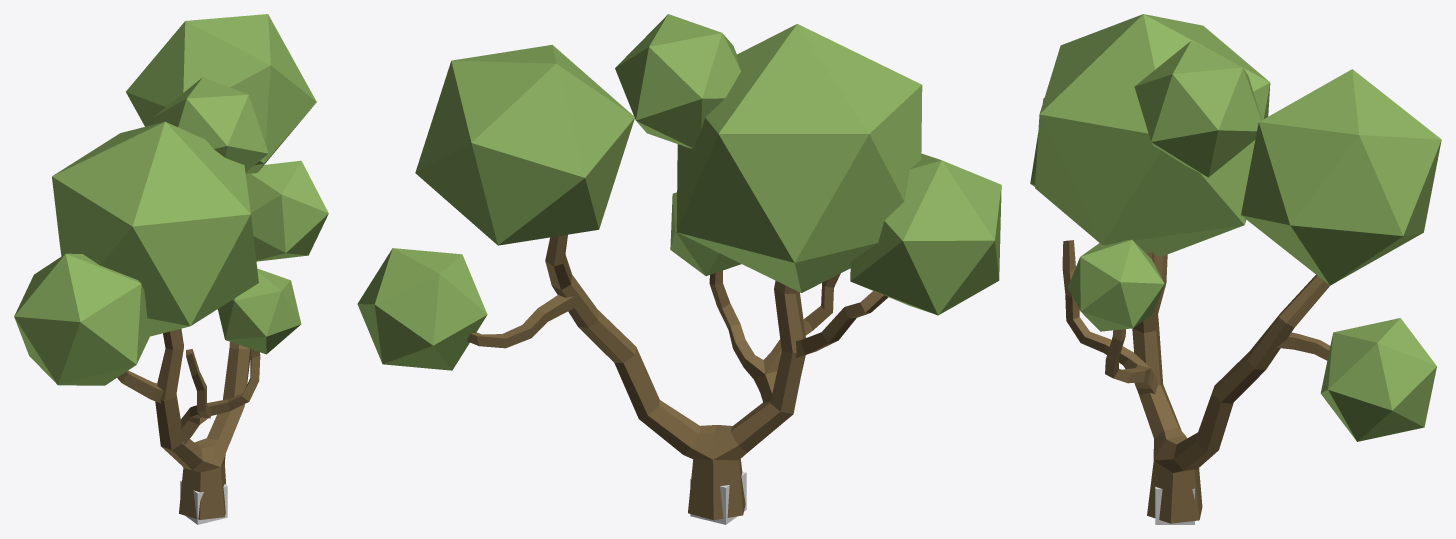
The model's file is tree.glb.
The picture shows the model from 3 angles, left to right: view 1: azimuth 30°, elevation 25°; view 2: azimuth 150°, elevation 25°; view 3: azimuth 270°, elevation 25°; orthographic projection. The views are drawn at different scales.
Visible parts, largest first — view 1: Tree_lp_11, Cube; view 2: Tree_lp_11; view 3: Tree_lp_11.
Part boxes in pixels (<box>): Tree_lp_11: <box>14,14,328,519</box>; Cube: <box>180,480,227,524</box>; Tree_lp_11: <box>357,14,1001,520</box>; Tree_lp_11: <box>1030,14,1441,523</box>.
Size of the model in its own units: 27.98 by 26.8 by 20.8.
